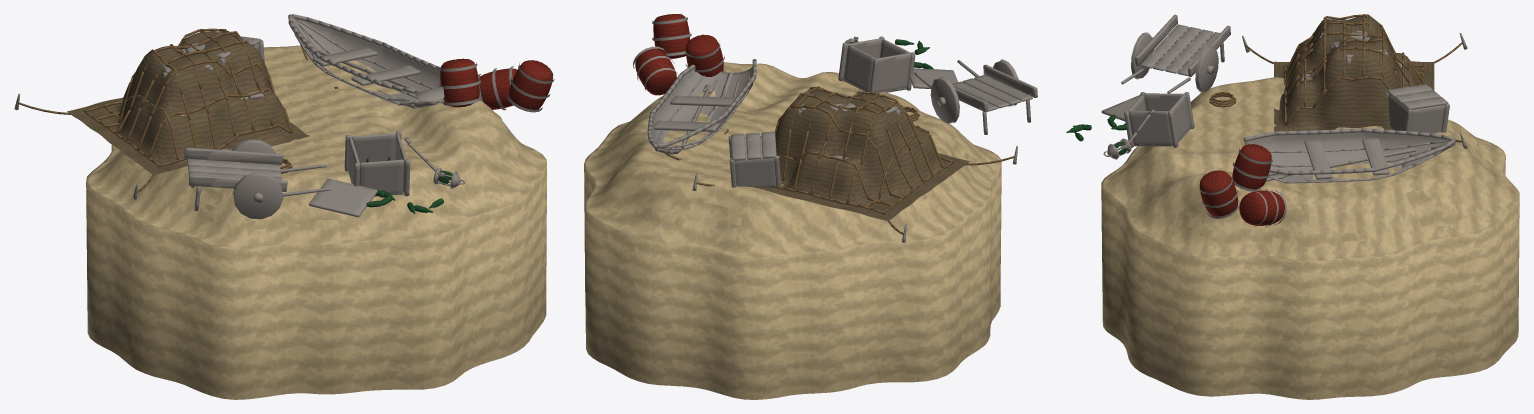
Rendered from smuggler_cache.glb.
3 views of the same model, side by side, from view 1: azimuth 30°, elevation 25°; view 2: azimuth 150°, elevation 25°; view 3: azimuth 270°, elevation 25° (orthographic). The views are drawn at different scales.
Visible parts, largest first — view 1: smuggler_cache; view 2: smuggler_cache; view 3: smuggler_cache.
Part boxes in pixels (bbox=[...]): smuggler_cache: bbox=[14, 14, 554, 399]; smuggler_cache: bbox=[584, 14, 1037, 399]; smuggler_cache: bbox=[1066, 14, 1519, 399].
Bounding box in the file's own units: 6.69 × 4.27 × 7.08.
6 materials, 6 textured.
